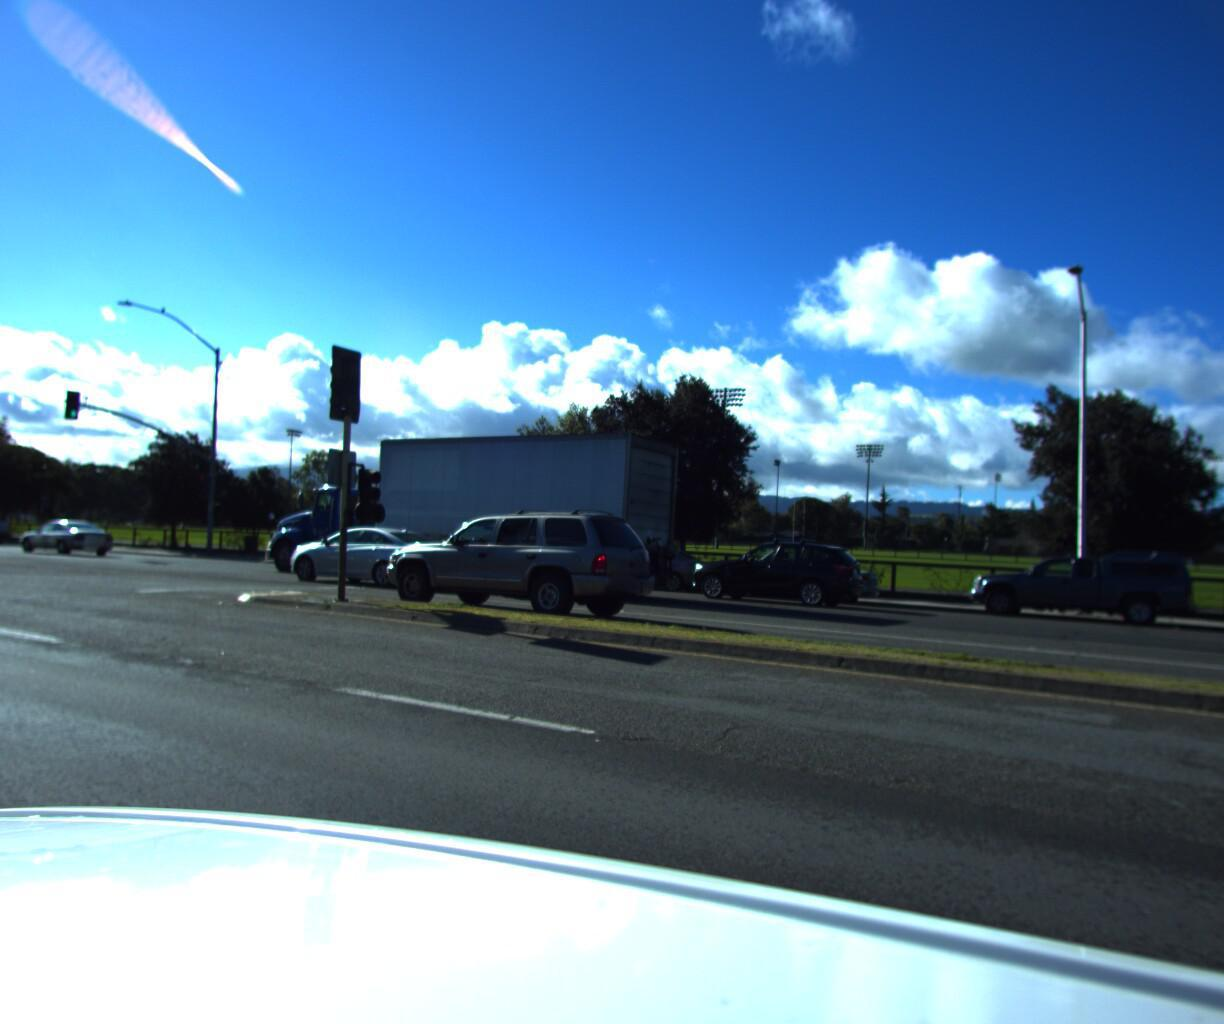car: (361, 497, 668, 625), (956, 536, 1198, 630), (678, 524, 876, 604), (276, 513, 476, 588), (714, 546, 886, 603), (567, 538, 725, 592), (7, 504, 122, 553), (0, 498, 16, 538)
truck: (241, 424, 688, 600)
